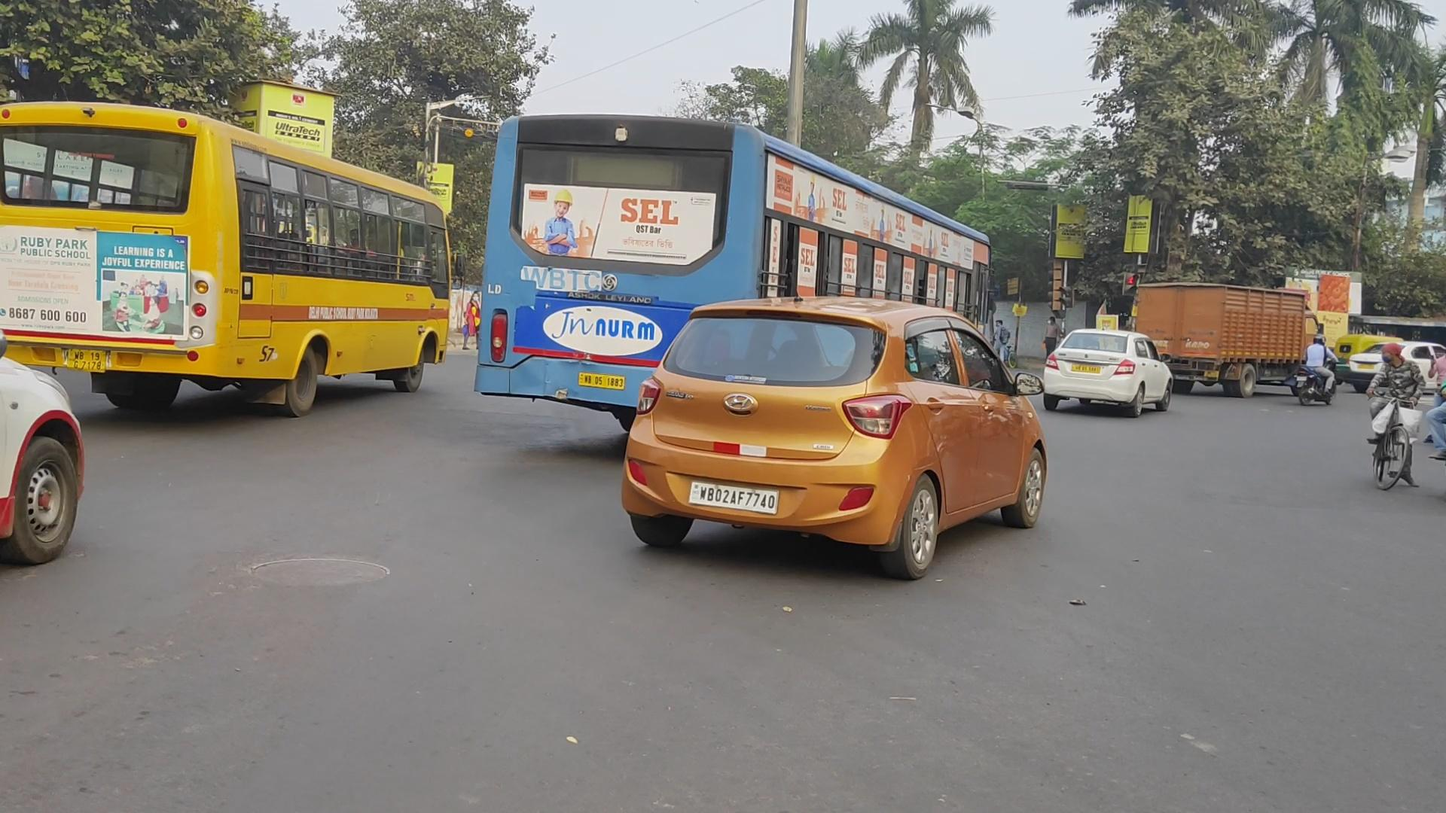Bus: (475, 111, 996, 472), (2, 100, 451, 419)
bike: (1365, 343, 1427, 490), (1294, 333, 1343, 406)
car: (618, 295, 1049, 581), (1043, 328, 1173, 418), (1344, 341, 1446, 395)
truck: (1134, 282, 1329, 398)
